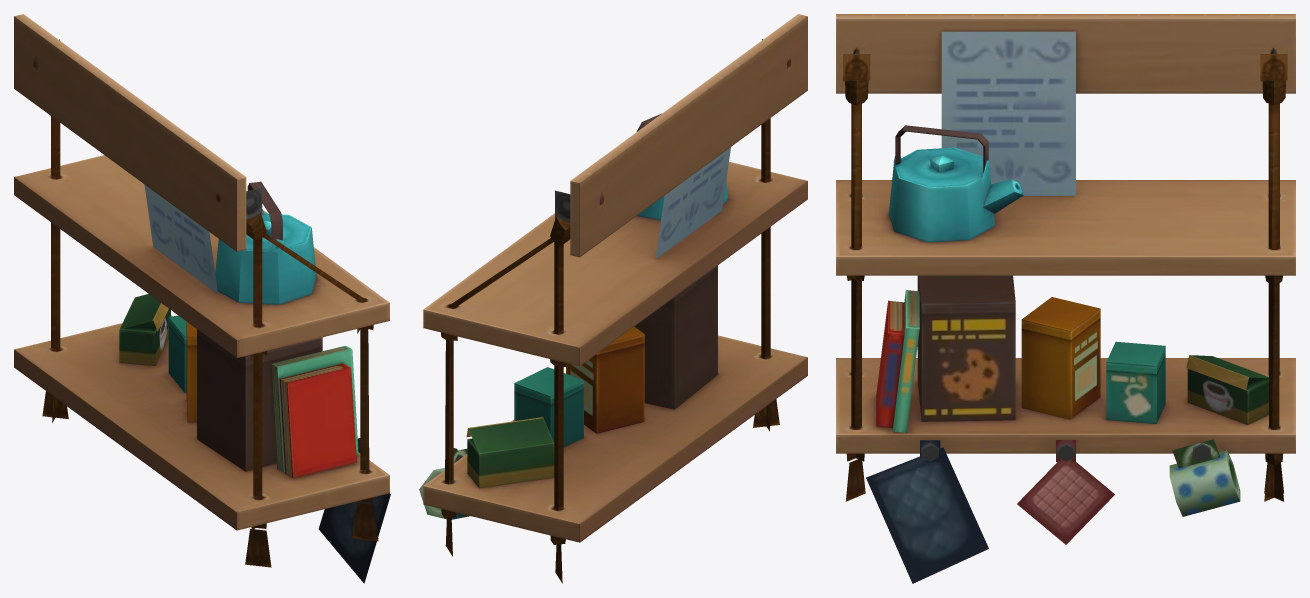
Rendered from tiny_open_shelf.glb.
3 views of the same model, side by side, from view 1: azimuth 30°, elevation 25°; view 2: azimuth 150°, elevation 25°; view 3: azimuth 270°, elevation 25° (orthographic). The views are drawn at different scales.
Parts seen in each view (by area): view 1: Object_62; view 2: Object_62; view 3: Object_62.
Boxes of the visible parts, <box> form: Object_62: <box>14,14,390,583</box>; Object_62: <box>419,14,807,583</box>; Object_62: <box>836,14,1295,583</box>.
Bounding box in the file's own units: 0.603 × 1.45 × 1.24.
1 material, 1 textured.
